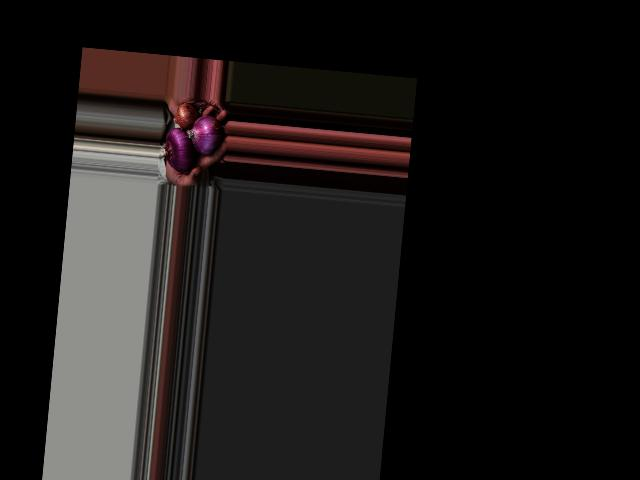onion: (164, 128, 194, 172)
